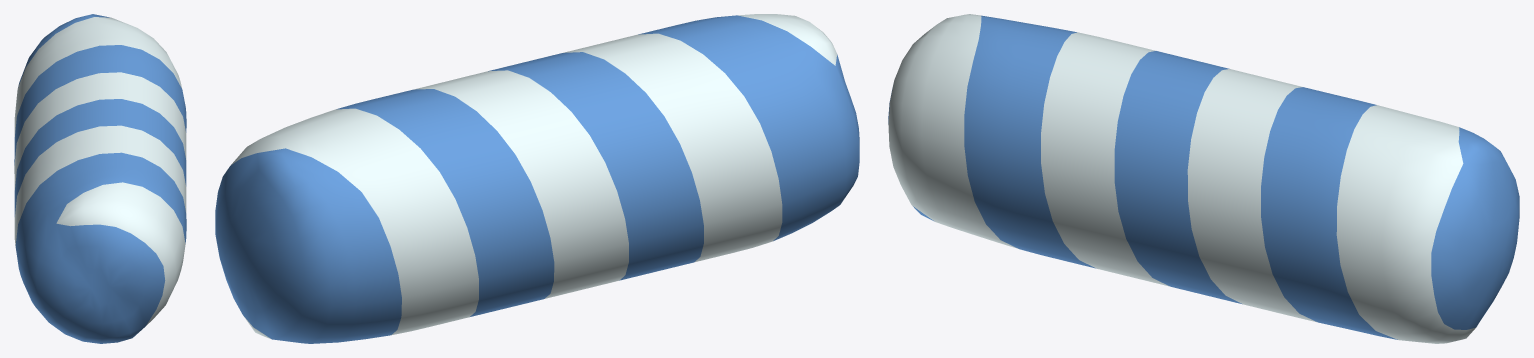
The model's file is Candybar_A_01.fbx.
The picture shows the model from 3 angles, left to right: view 1: azimuth 30°, elevation 25°; view 2: azimuth 150°, elevation 25°; view 3: azimuth 270°, elevation 25°; orthographic projection. The views are drawn at different scales.
Visible parts, largest first — view 1: Candybar_A_01_LOD0; view 2: Candybar_A_01_LOD0; view 3: Candybar_A_01_LOD0.
Boxes of the visible parts, x1,y1,x2,y2 form: Candybar_A_01_LOD0: (14, 14, 186, 343); Candybar_A_01_LOD0: (215, 14, 859, 343); Candybar_A_01_LOD0: (888, 14, 1519, 343).
Size of what is drawn, in the model's own units: 549 by 266 by 742.
